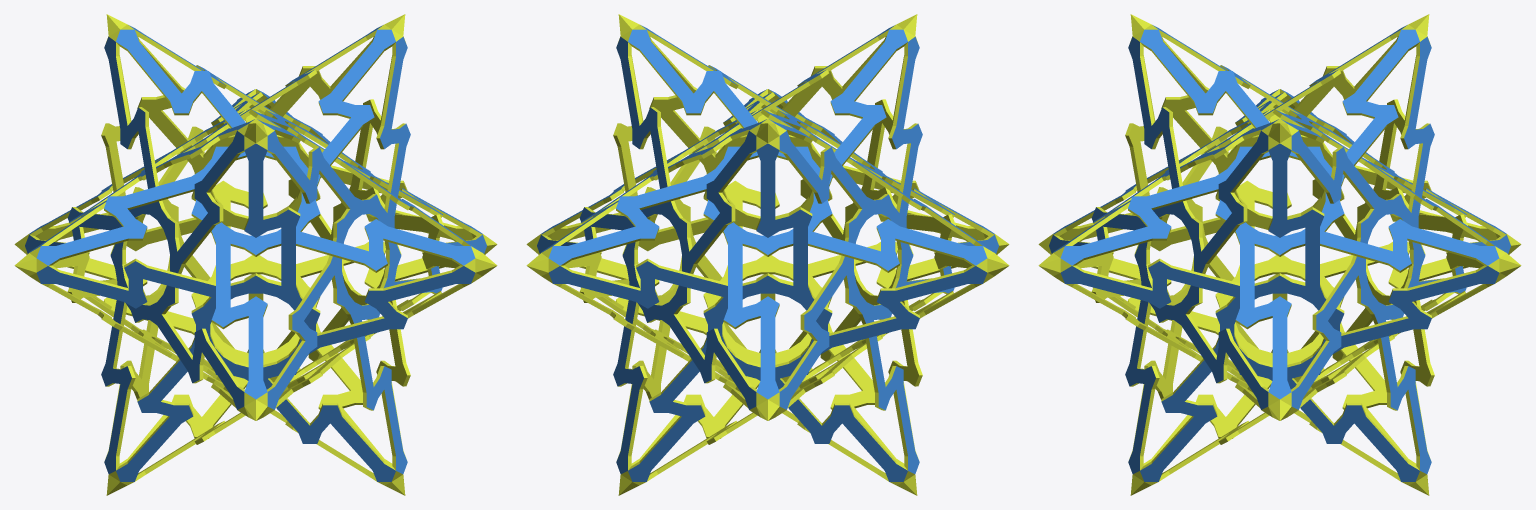
File: StarDodecahedronPolyknot9.glb
The picture shows the model from 3 angles, left to right: view 1: azimuth 30°, elevation 25°; view 2: azimuth 150°, elevation 25°; view 3: azimuth 270°, elevation 25°; orthographic projection.
Parts seen in each view (by area): view 1: 3D_ESCHER_ZZ_DODECAHEDRON_1Augmented_Penta_Prism; view 2: 3D_ESCHER_ZZ_DODECAHEDRON_1Augmented_Penta_Prism; view 3: 3D_ESCHER_ZZ_DODECAHEDRON_1Augmented_Penta_Prism.
Boxes of the visible parts, left/top/right/bottom form: 3D_ESCHER_ZZ_DODECAHEDRON_1Augmented_Penta_Prism: left=14, top=14, right=497, bottom=495; 3D_ESCHER_ZZ_DODECAHEDRON_1Augmented_Penta_Prism: left=526, top=14, right=1009, bottom=495; 3D_ESCHER_ZZ_DODECAHEDRON_1Augmented_Penta_Prism: left=1038, top=14, right=1521, bottom=495.
Size of the model in its own units: 124 by 100 by 107.
